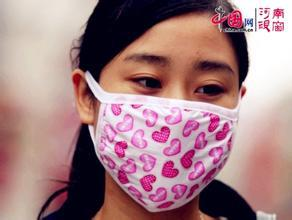OK: (90, 52, 237, 205)
